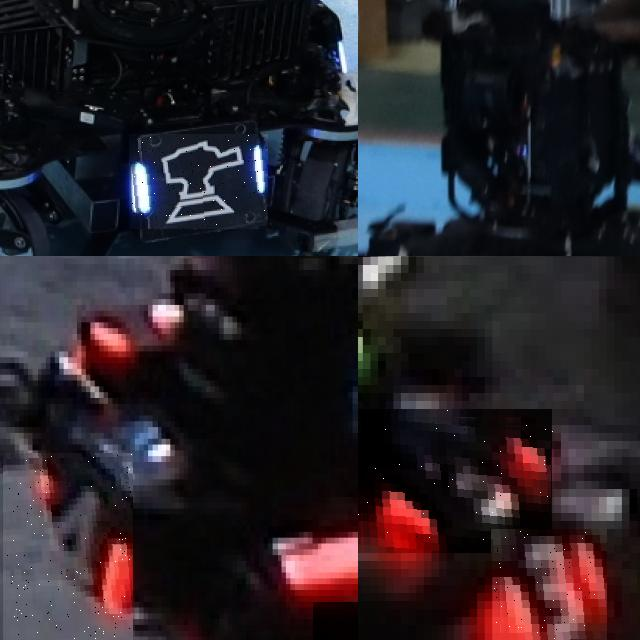Bs: (129, 134, 268, 229)
R3: (358, 409, 553, 553), (492, 529, 606, 640)
R4: (3, 453, 132, 640)
